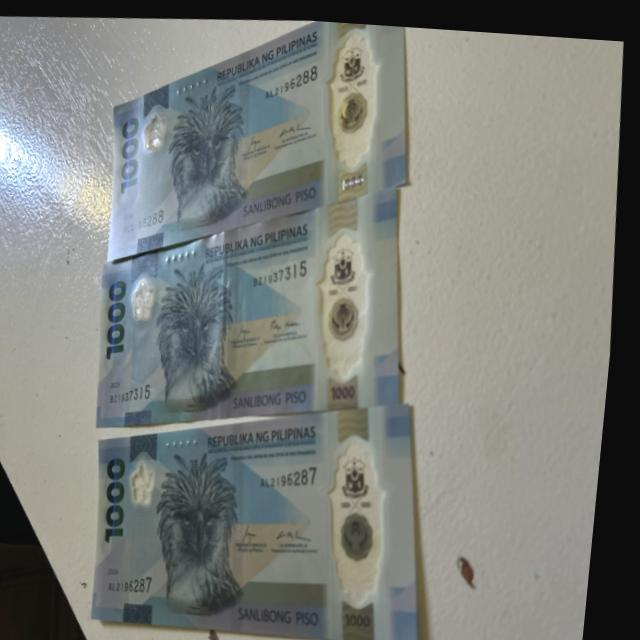clear_window: (327, 420, 406, 615), (317, 17, 396, 188), (315, 214, 383, 395)
eagle: (160, 451, 260, 619), (158, 257, 242, 407), (166, 86, 251, 231)
sampaguita: (135, 445, 169, 510), (131, 275, 169, 324), (143, 105, 174, 161)
serial_number: (259, 42, 323, 104), (107, 564, 169, 603), (111, 372, 166, 408)
value: (108, 451, 143, 542)
